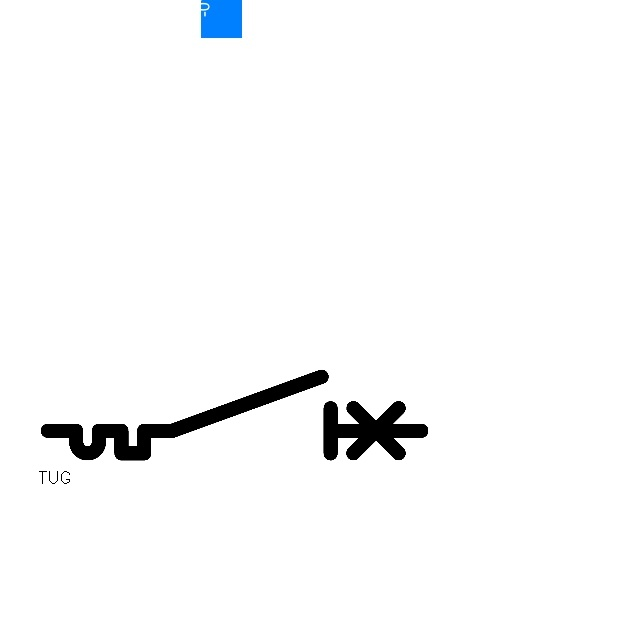interruptor_termomagnetico: (38, 367, 430, 463)
